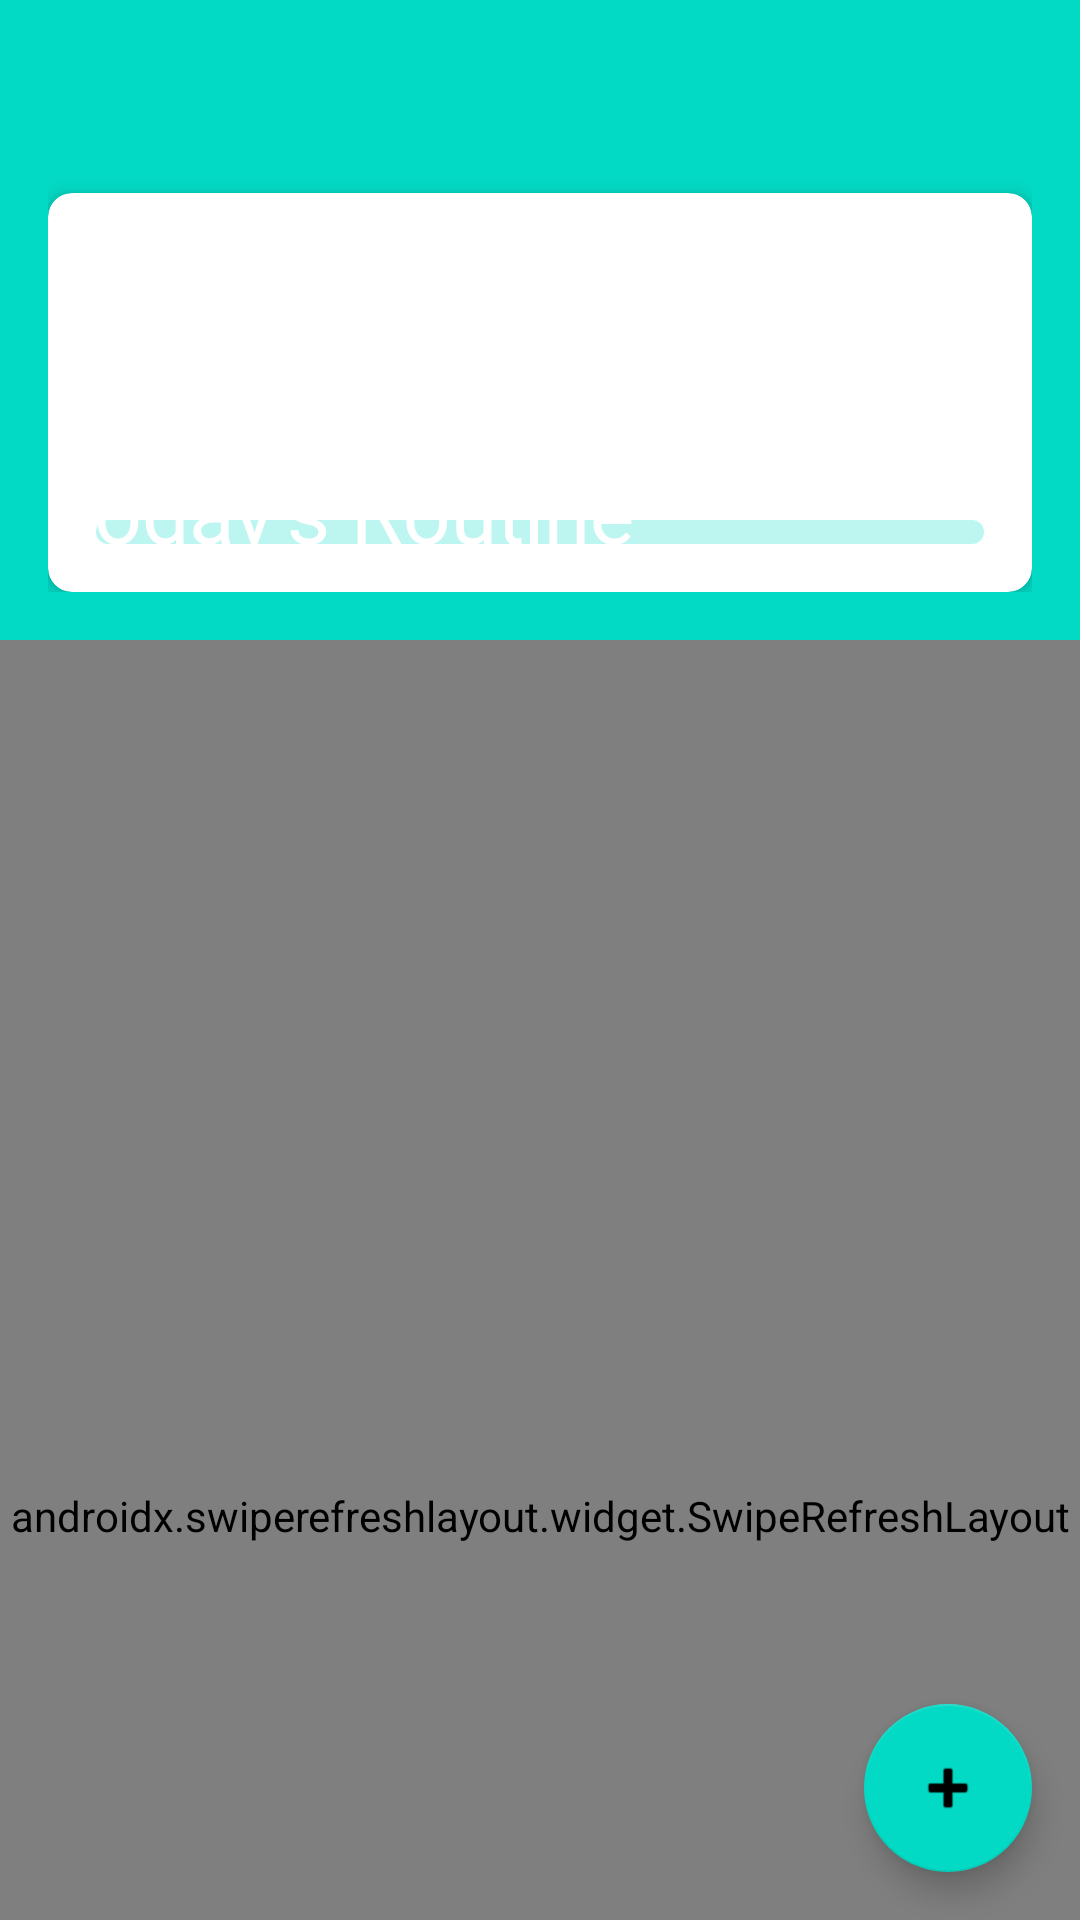

Icons on this 1080 × 1920 Android screen, each with the point to tap as (x=x, y=y):
Add new routine item: (x=948, y=1788)
